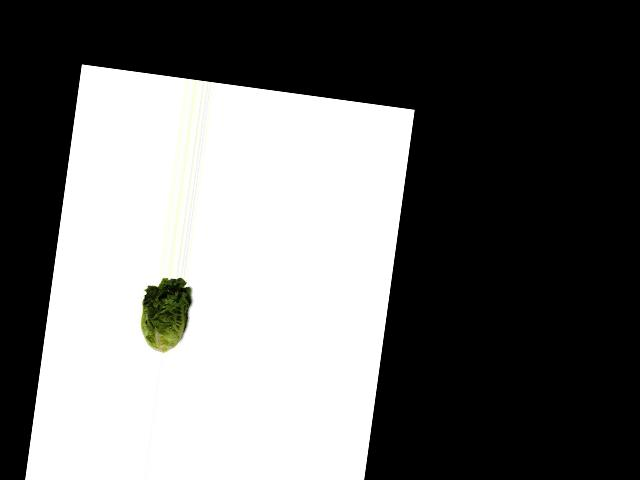lettuce: (131, 274, 197, 355)
